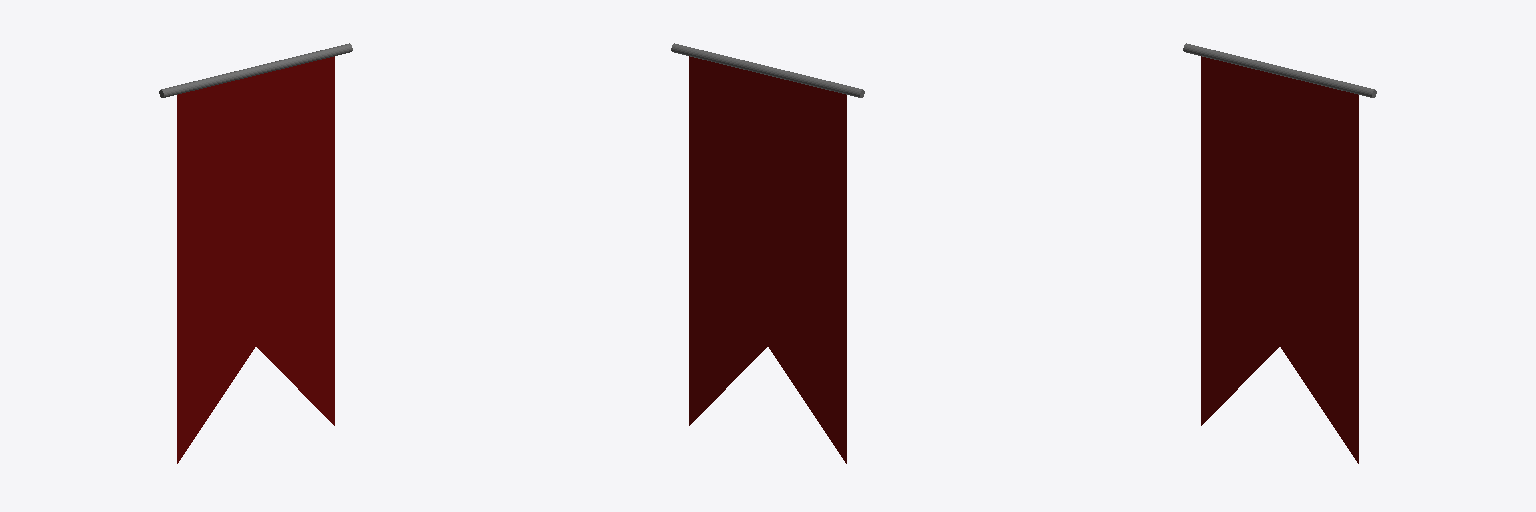
The model's file is Standard.obj.
3 renders of one model, left to right at view 1: azimuth 30°, elevation 25°; view 2: azimuth 150°, elevation 25°; view 3: azimuth 330°, elevation 25°, orthographic.
Visible parts, largest first — view 1: obj_0.001_obj_0.025, obj_0.024; view 2: obj_0.001_obj_0.025, obj_0.024; view 3: obj_0.001_obj_0.025, obj_0.024.
Part boxes in pixels (x1,y1,x2,y2): obj_0.001_obj_0.025: (177, 56, 334, 463); obj_0.024: (159, 43, 352, 97); obj_0.001_obj_0.025: (689, 56, 846, 463); obj_0.024: (671, 43, 864, 97); obj_0.001_obj_0.025: (1201, 56, 1358, 463); obj_0.024: (1183, 43, 1376, 97).
Bounding box in the file's own units: 24 × 46 × 1.